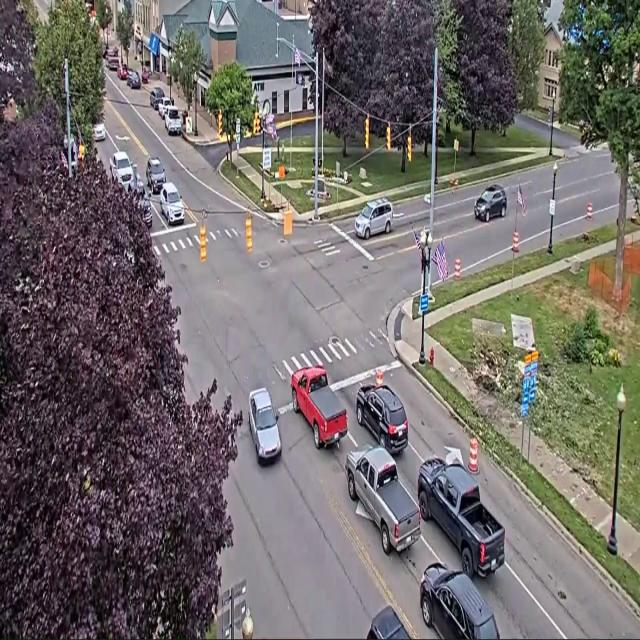car: (420, 563, 499, 639), (356, 384, 408, 454), (249, 388, 281, 463), (355, 198, 392, 239), (367, 606, 410, 639), (127, 172, 152, 228), (475, 184, 507, 222), (160, 183, 184, 224), (109, 151, 133, 189), (146, 157, 166, 193), (164, 106, 181, 135), (158, 96, 173, 119), (150, 86, 164, 110), (127, 71, 141, 88), (93, 123, 105, 141), (107, 56, 119, 71), (118, 64, 128, 79), (141, 68, 150, 83)
traffic signal: (245, 214, 252, 252), (200, 225, 207, 261), (283, 211, 292, 236), (253, 111, 261, 136), (386, 124, 391, 150), (365, 117, 369, 149), (548, 106, 554, 124), (407, 134, 411, 161), (218, 111, 222, 137)
truck: (418, 457, 504, 577), (345, 445, 420, 554), (291, 367, 347, 448)
